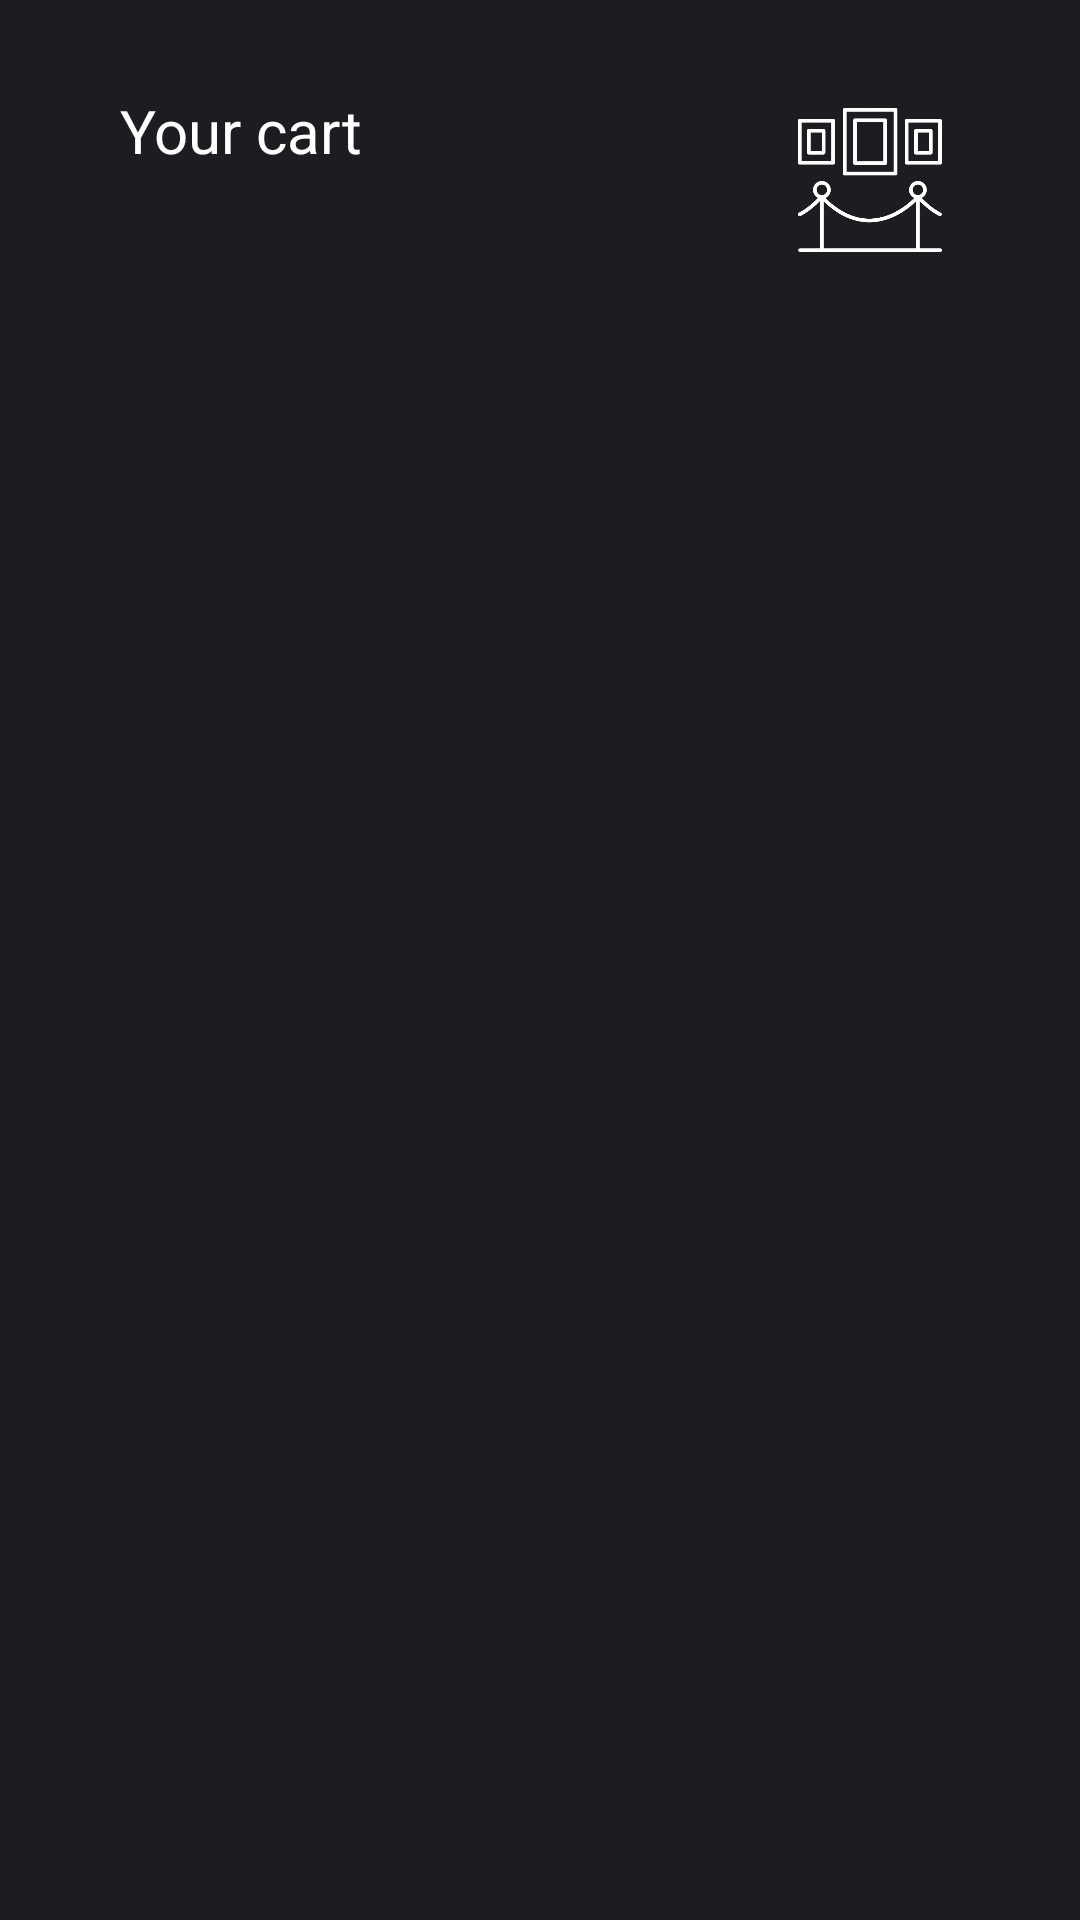

Point at icon controls on the screen. Image size 1080×1920, points as [x,y].
art gallery: [870,180]
